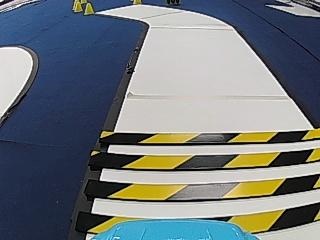bump: (86, 121, 312, 220)
